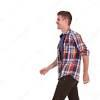Persons: (54, 9, 75, 33)
